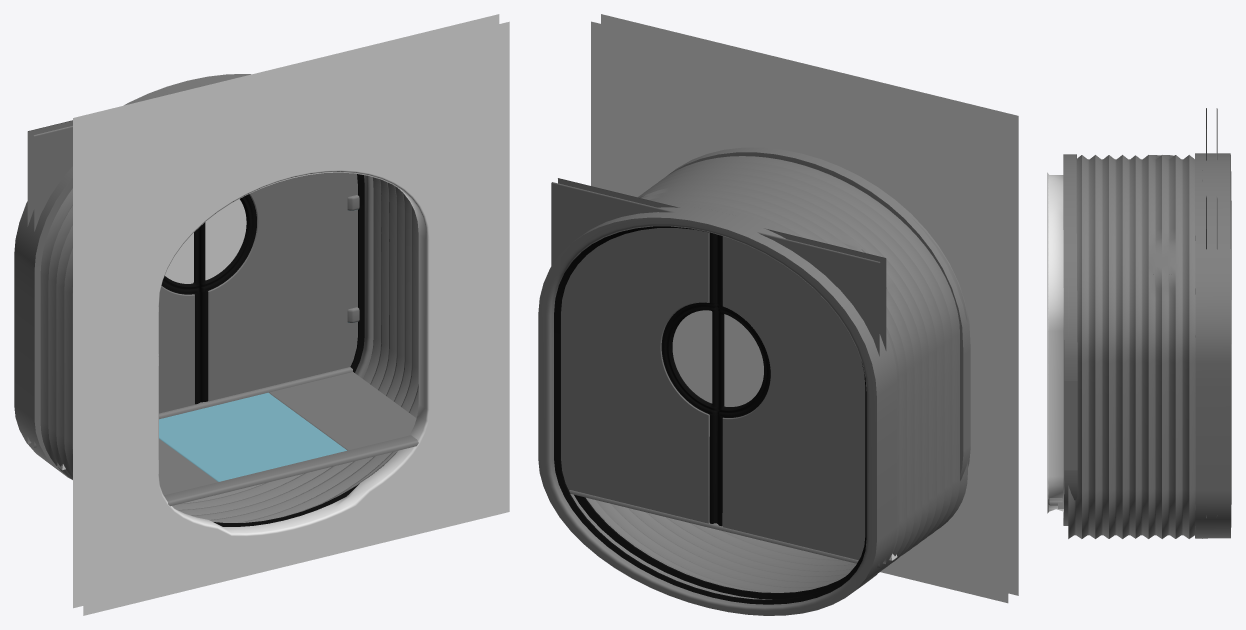
The model's file is DoorMain.fbx.
3 views of the same model, side by side, from view 1: azimuth 30°, elevation 25°; view 2: azimuth 150°, elevation 25°; view 3: azimuth 270°, elevation 25° (orthographic). The views are drawn at different scales.
Parts seen in each view (by area): view 1: MainDoor007, MainDoorL, MainDoor002, Object049, MainDoor006, MainDoorR, MainDoor001, MainDoor012, MainDoor014, MainDoor011, MainDoor005; view 2: MainDoor007, MainDoor002, MainDoorL, MainDoorR, MainDoor006, MainDoor005, MainDoor012, MainDoor010, MainDoor014; view 3: MainDoor002, MainDoor006, MainDoor007, MainDoor005.
Part boxes in pixels (x1,y1,x2,y2): MainDoor007: (73, 14, 509, 615); MainDoorL: (199, 172, 357, 402); MainDoor002: (40, 177, 418, 522); Object049: (159, 372, 416, 495); MainDoor006: (14, 74, 373, 479); MainDoorR: (27, 120, 200, 447); MainDoor001: (164, 435, 418, 506); MainDoor012: (205, 199, 246, 280); MainDoor014: (159, 367, 352, 419); MainDoor011: (165, 233, 193, 283); MainDoor005: (213, 452, 396, 526); MainDoor007: (591, 14, 1018, 603); MainDoor002: (570, 156, 967, 599); MainDoorL: (551, 178, 717, 523); MainDoorR: (716, 228, 886, 567); MainDoor006: (538, 202, 897, 615); MainDoor005: (668, 147, 970, 480); MainDoor012: (672, 310, 712, 403); MainDoor010: (724, 314, 763, 406); MainDoor014: (569, 490, 858, 563); MainDoor002: (1068, 155, 1202, 538); MainDoor006: (1195, 153, 1231, 538); MainDoor007: (1047, 172, 1064, 513); MainDoor005: (1063, 154, 1077, 525).
Bounding box in the file's own units: 477 × 524 × 207.
